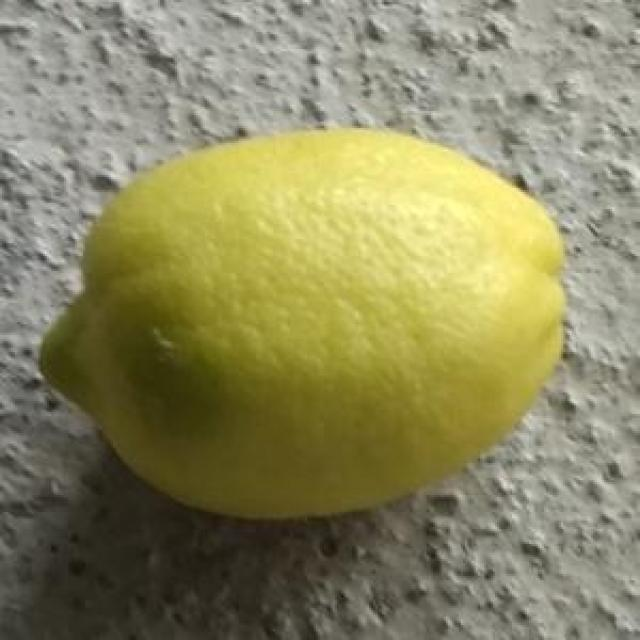lemon: (39, 124, 566, 518)
